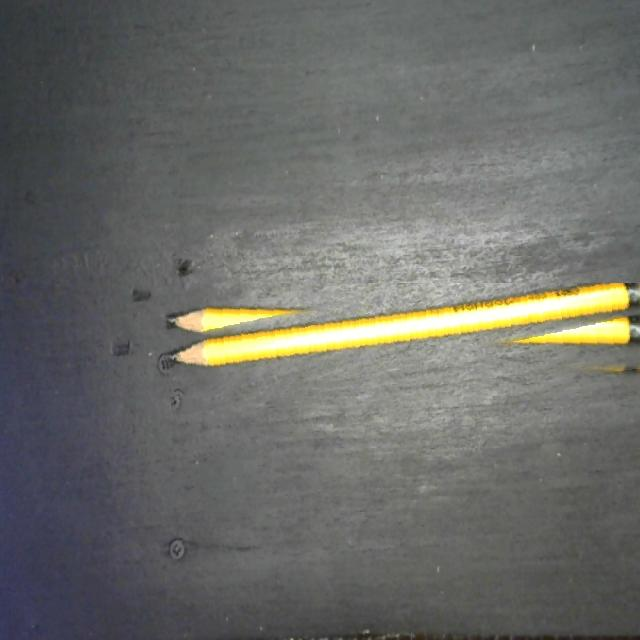biodegradable: (162, 283, 640, 397)
